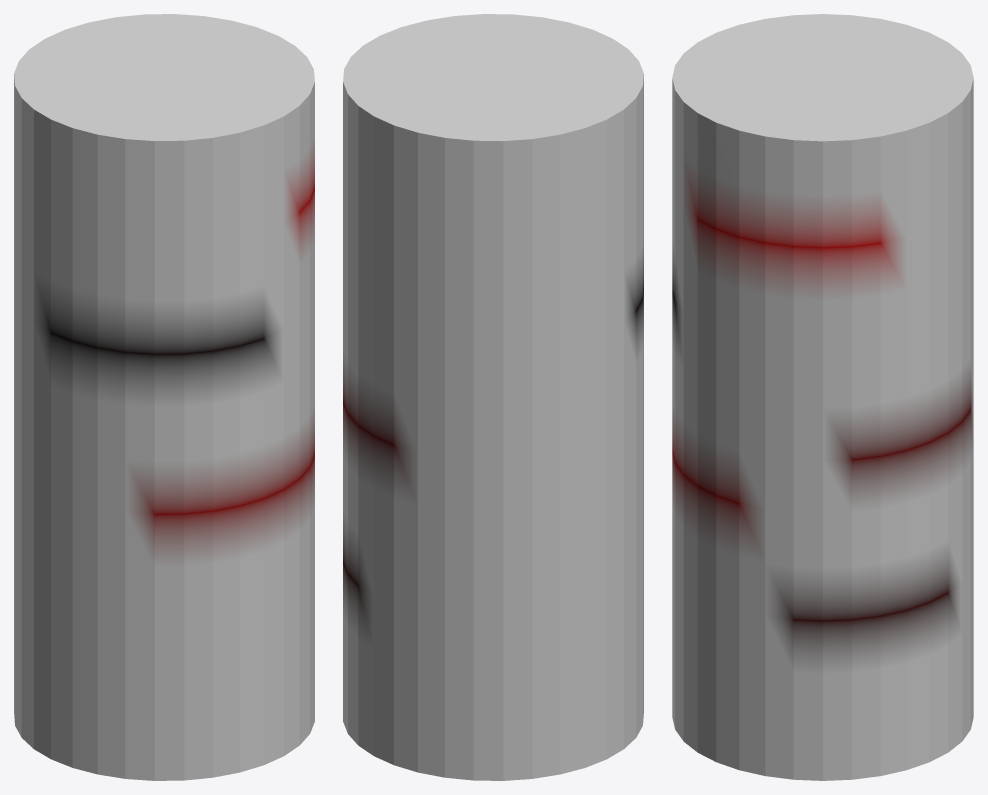
Rendered from tree.glb.
The picture shows the model from 3 angles, left to right: view 1: azimuth 30°, elevation 25°; view 2: azimuth 150°, elevation 25°; view 3: azimuth 270°, elevation 25°; orthographic projection.
Visible parts, largest first — view 1: Cylinder; view 2: Cylinder; view 3: Cylinder.
Boxes of the visible parts, bbox=[...] form: Cylinder: bbox=[14, 14, 314, 780]; Cylinder: bbox=[343, 14, 643, 780]; Cylinder: bbox=[672, 14, 973, 780].
Size of the model in its own units: 2 by 4.68 by 2.
